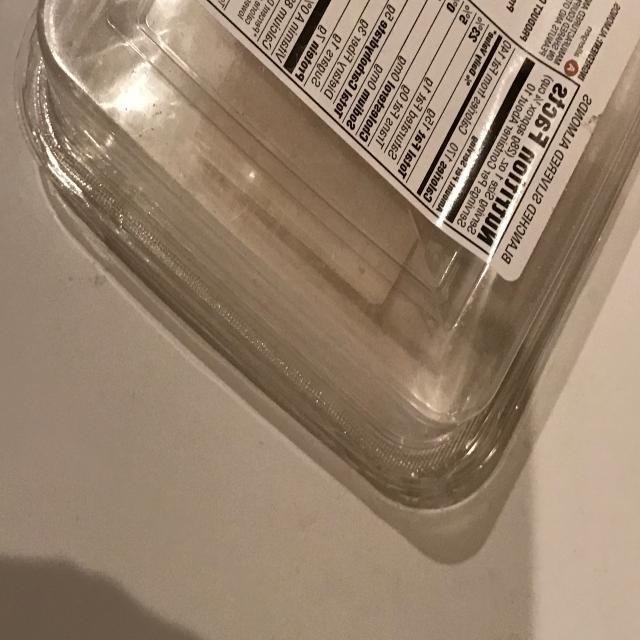plastic: (14, 0, 640, 560)
